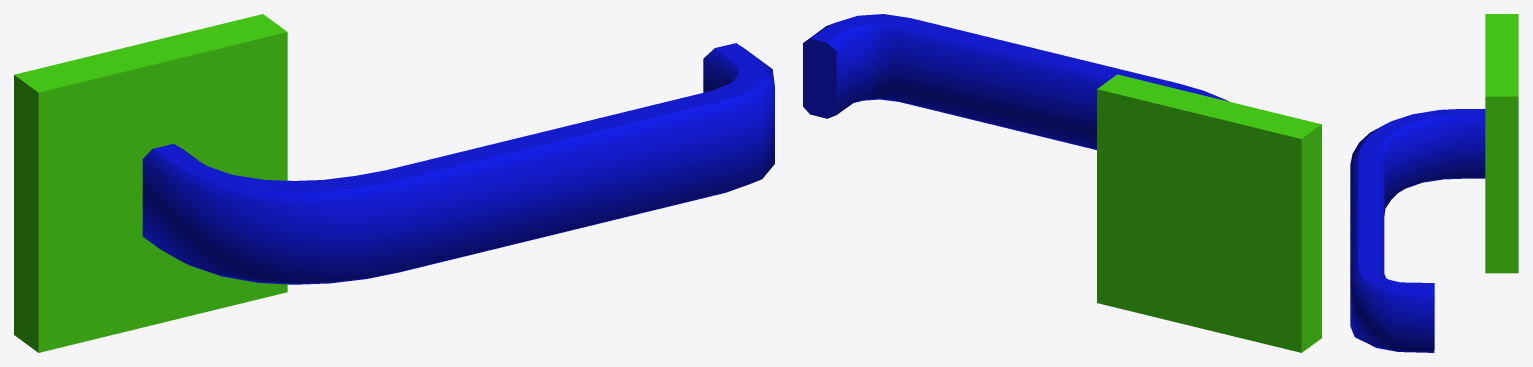
The model's file is Door_Handle_Low.fbx.
The picture shows the model from 3 angles, left to right: view 1: azimuth 30°, elevation 25°; view 2: azimuth 150°, elevation 25°; view 3: azimuth 270°, elevation 25°; orthographic projection. The views are drawn at different scales.
Visible parts, largest first — view 1: Door_Handle_Low; view 2: Door_Handle_Low; view 3: Door_Handle_Low.
Part boxes in pixels (left/top/right/bottom): Door_Handle_Low: left=14, top=14, right=774, bottom=352; Door_Handle_Low: left=803, top=14, right=1321, bottom=352; Door_Handle_Low: left=1350, top=14, right=1518, bottom=352.
Bounding box in the file's own units: 16.21 × 6.03 × 5.2.
